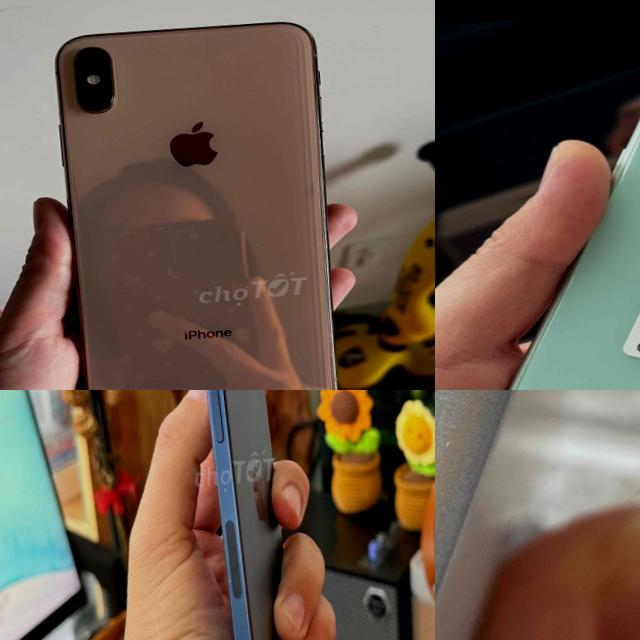gen_11: (435, 17, 640, 390)
gen_15: (435, 390, 640, 640), (159, 390, 325, 640)
gen_x_xs: (28, 0, 356, 390)
scratch: (220, 541, 227, 552), (225, 574, 232, 584), (239, 591, 244, 597)
